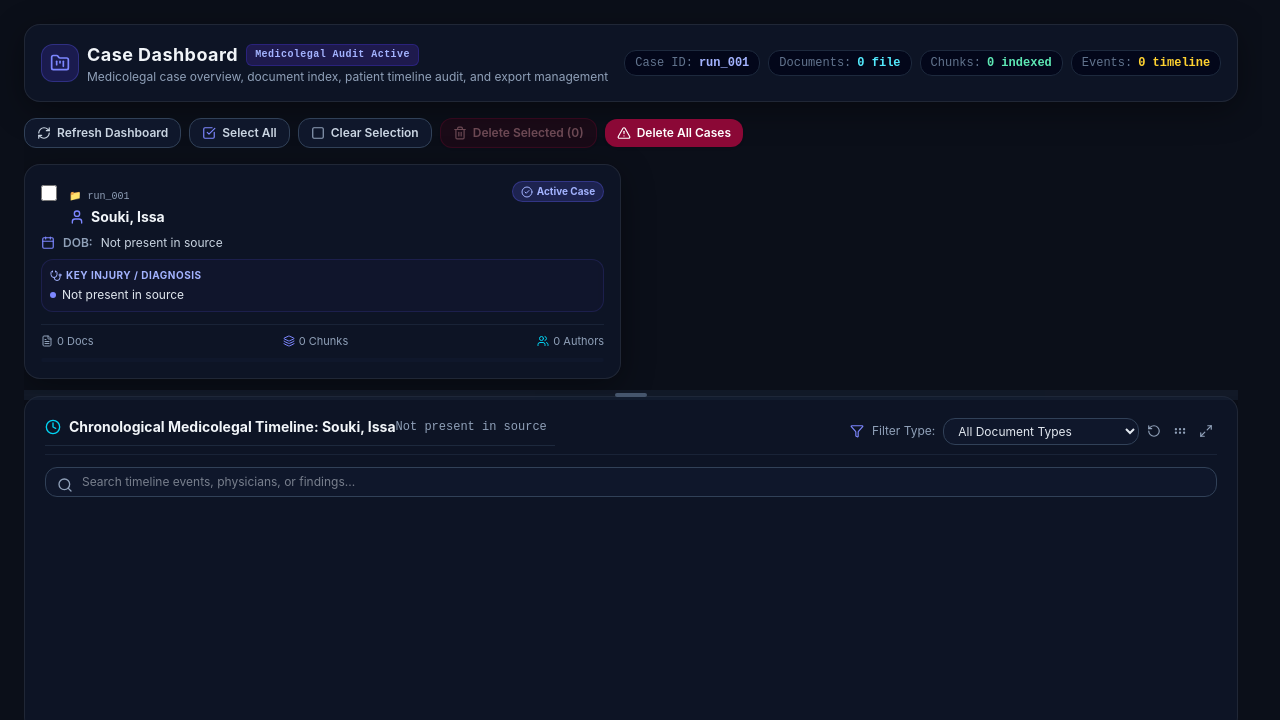
Test: CaseDashboard Component › handles Delete All Cases and displays empty state
Expected: the heading "Souki, Issa" is shown, [69,207,165,227]
Click the button "Delete All Cases" at (674, 133), box [605,119,743,147]
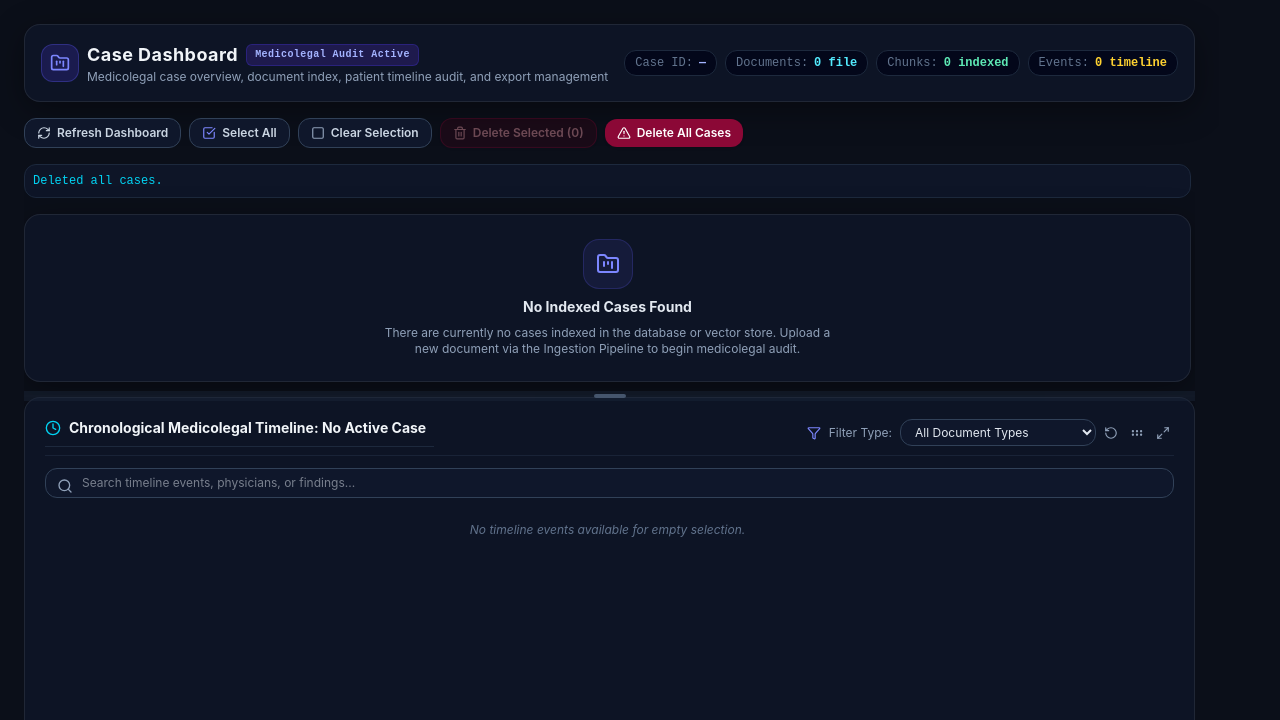
Now the heading "No Indexed Cases Found" is shown, box [523,298,692,315]
